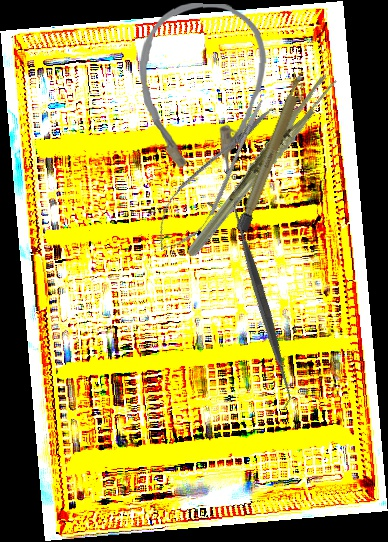Cannula: (134, 1, 269, 181)
Micro Scissor: (142, 89, 286, 264)
Scalpel Handle: (235, 70, 309, 235)
Spatula Surgical: (153, 194, 371, 412)
Tissue Forceps: (157, 70, 364, 260)
